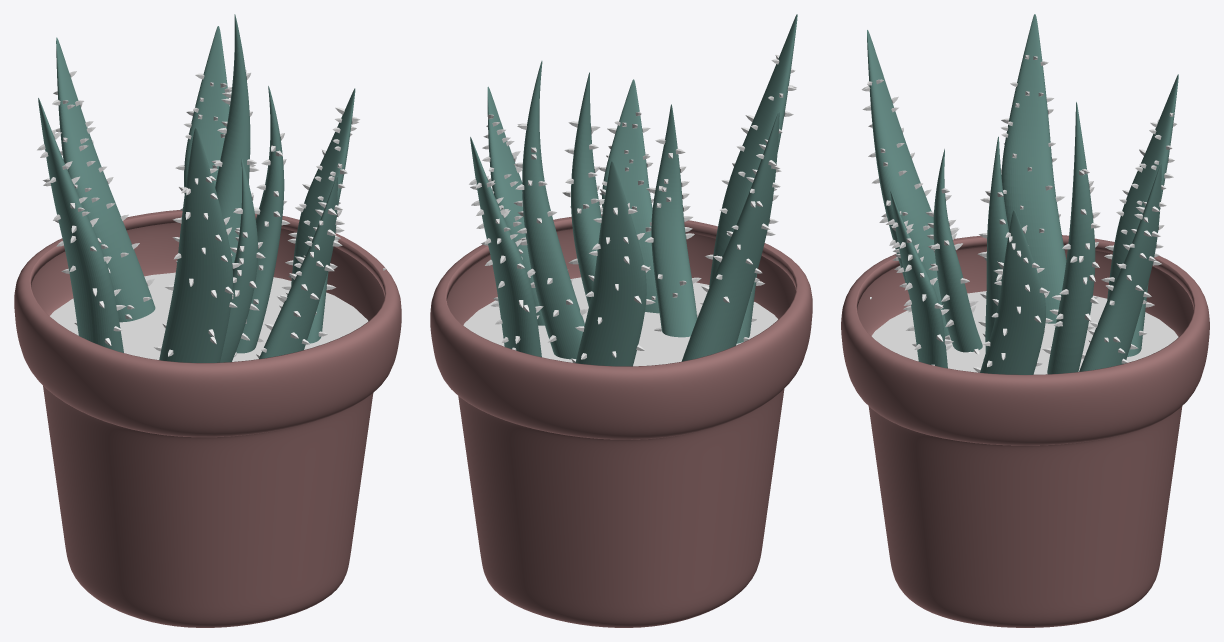
File: succulent.fbx
3 renders of one model, left to right at view 1: azimuth 30°, elevation 25°; view 2: azimuth 150°, elevation 25°; view 3: azimuth 270°, elevation 25°, orthographic. The views are drawn at different scales.
Parts seen in each view (by area): view 1: Pot, Aloe, Aloe.001, Dirt; view 2: Pot, Aloe, Aloe.001, Dirt; view 3: Pot, Aloe, Aloe.001, Dirt.
Part boxes in pixels (left/top/right/bottom): Pot: left=14, top=210, right=401, bottom=627; Aloe: left=38, top=26, right=355, bottom=362; Aloe.001: left=215, top=14, right=284, bottom=362; Dirt: left=50, top=272, right=368, bottom=361; Pot: left=430, top=214, right=812, bottom=627; Aloe: left=470, top=14, right=797, bottom=366; Aloe.001: left=522, top=61, right=697, bottom=359; Dirt: left=463, top=277, right=777, bottom=366; Pot: left=841, top=235, right=1209, bottom=627; Aloe: left=867, top=14, right=1178, bottom=374; Aloe.001: left=933, top=102, right=1095, bottom=374; Dirt: left=871, top=291, right=1178, bottom=374.
Bounding box in the file's own units: 14.3 × 22.13 × 14.63.
